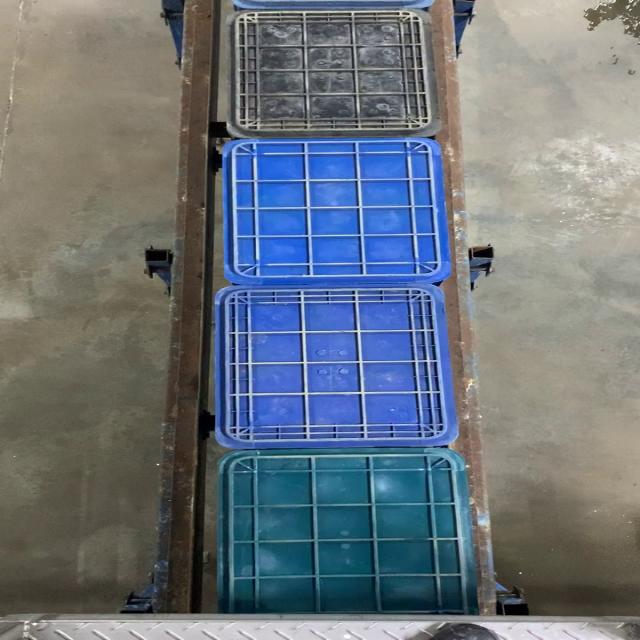Box: (210, 285, 460, 449), (221, 140, 454, 284), (226, 10, 442, 140)
